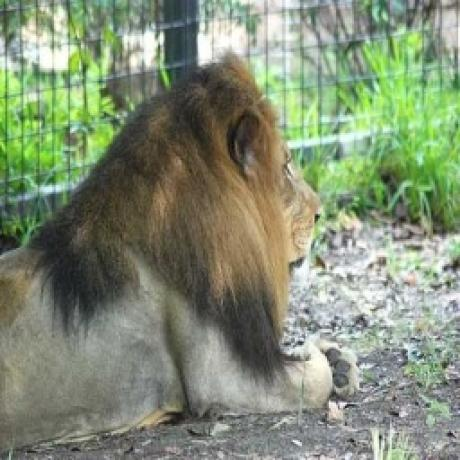Lion: (0, 52, 362, 452)
